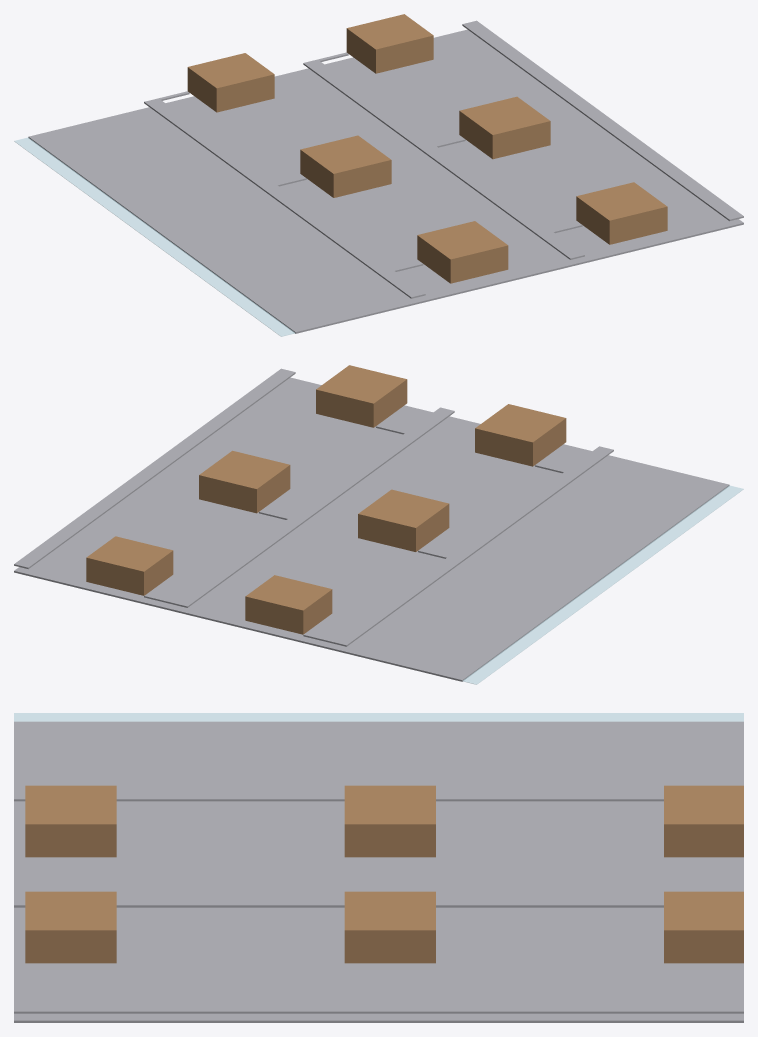
Rendered from city_c01_01.glb.
The picture shows the model from 3 angles, top to bottom: view 1: azimuth 30°, elevation 25°; view 2: azimuth 150°, elevation 25°; view 3: azimuth 270°, elevation 25°; orthographic projection. The views are drawn at different scales.
Visible parts, largest first — view 1: terrain_west_proxy__c01_01, road_west_4__c01_01, road_west_3__c01_01, road_west_2__c01_01, building_033__c01_01, building_044__c01_01, building_043__c01_01, building_034__c01_01, river_water_proxy__c01_01, building_024__c01_01, building_023__c01_01; view 2: terrain_west_proxy__c01_01, road_west_4__c01_01, road_west_3__c01_01, road_west_2__c01_01, building_034__c01_01, building_033__c01_01, building_044__c01_01, building_043__c01_01, river_water_proxy__c01_01, building_023__c01_01, building_024__c01_01; view 3: terrain_west_proxy__c01_01, road_west_2__c01_01, building_043__c01_01, building_044__c01_01, building_033__c01_01, building_034__c01_01, river_water_proxy__c01_01, road_west_4__c01_01, building_023__c01_01, building_024__c01_01, road_west_3__c01_01.
Part boxes in pixels (left/top/right/bottom): terrain_west_proxy__c01_01: left=28, top=29, right=743, bottom=333; road_west_4__c01_01: left=144, top=98, right=425, bottom=298; road_west_3__c01_01: left=303, top=59, right=584, bottom=259; road_west_2__c01_01: left=462, top=20, right=743, bottom=221; building_033__c01_01: left=459, top=96, right=550, bottom=159; building_044__c01_01: left=417, top=221, right=508, bottom=283; building_043__c01_01: left=576, top=182, right=667, bottom=244; building_034__c01_01: left=300, top=135, right=391, bottom=197; river_water_proxy__c01_01: left=14, top=137, right=295, bottom=336; building_024__c01_01: left=187, top=53, right=274, bottom=112; building_023__c01_01: left=346, top=14, right=433, bottom=73; terrain_west_proxy__c01_01: left=14, top=377, right=729, bottom=681; road_west_4__c01_01: left=332, top=446, right=613, bottom=646; road_west_3__c01_01: left=173, top=407, right=454, bottom=607; road_west_2__c01_01: left=14, top=368, right=295, bottom=569; building_034__c01_01: left=358, top=489, right=449, bottom=551; building_033__c01_01: left=199, top=450, right=290, bottom=513; building_044__c01_01: left=475, top=404, right=566, bottom=466; building_043__c01_01: left=316, top=365, right=407, bottom=427; river_water_proxy__c01_01: left=463, top=485, right=743, bottom=684; building_023__c01_01: left=86, top=536, right=173, bottom=595; building_024__c01_01: left=245, top=575, right=332, bottom=634; terrain_west_proxy__c01_01: left=14, top=721, right=743, bottom=1022; road_west_2__c01_01: left=14, top=1002, right=743, bottom=1013; building_043__c01_01: left=25, top=891, right=116, bottom=963; building_044__c01_01: left=25, top=785, right=116, bottom=857; building_033__c01_01: left=344, top=891, right=435, bottom=963; building_034__c01_01: left=344, top=785, right=435, bottom=857; river_water_proxy__c01_01: left=14, top=713, right=743, bottom=721; road_west_4__c01_01: left=14, top=789, right=663, bottom=801; building_023__c01_01: left=664, top=891, right=743, bottom=963; building_024__c01_01: left=664, top=785, right=743, bottom=857; road_west_3__c01_01: left=14, top=896, right=663, bottom=907.
Size of the model in its own units: 128 by 8.6 by 128.
